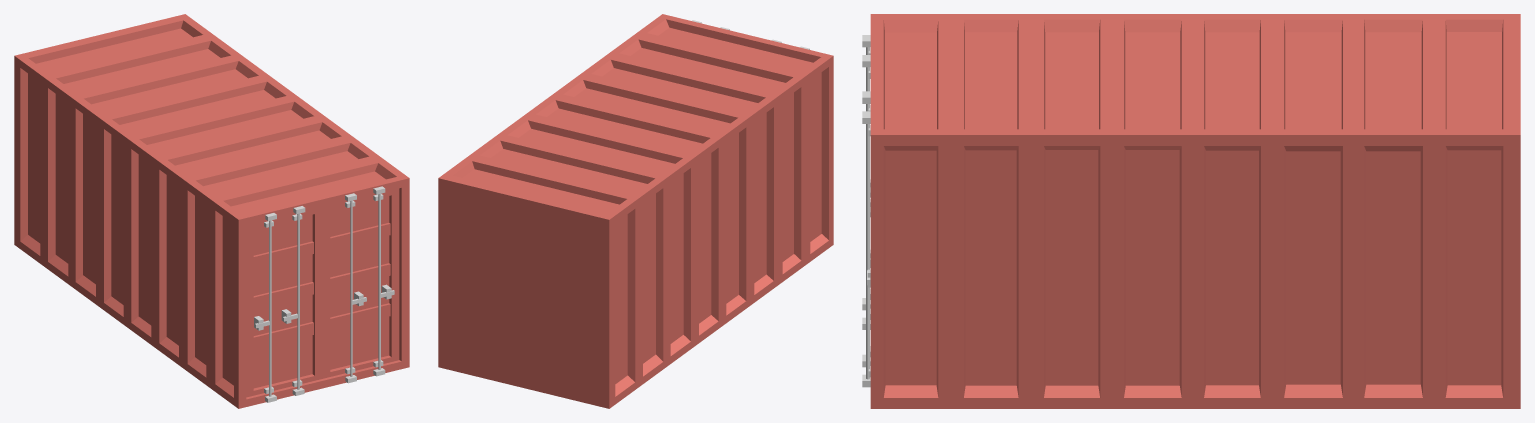
File: CONTAINER_fixed.fbx
3 renders of one model, left to right at view 1: azimuth 30°, elevation 25°; view 2: azimuth 150°, elevation 25°; view 3: azimuth 270°, elevation 25°, orthographic. The views are drawn at different scales.
Visible parts, largest first — view 1: Cube, Cube.002, Cube.001; view 2: Cube; view 3: Cube, Cube.002.
Part boxes in pixels (<box>): Cube: <box>14,14,409,408</box>; Cube.002: <box>322,188,399,378</box>; Cube.001: <box>246,207,322,397</box>; Cube: <box>438,14,833,408</box>; Cube: <box>862,14,1520,408</box>; Cube.002: <box>866,104,870,379</box>.
Bounding box in the file's own units: 597 × 1373 × 630.
